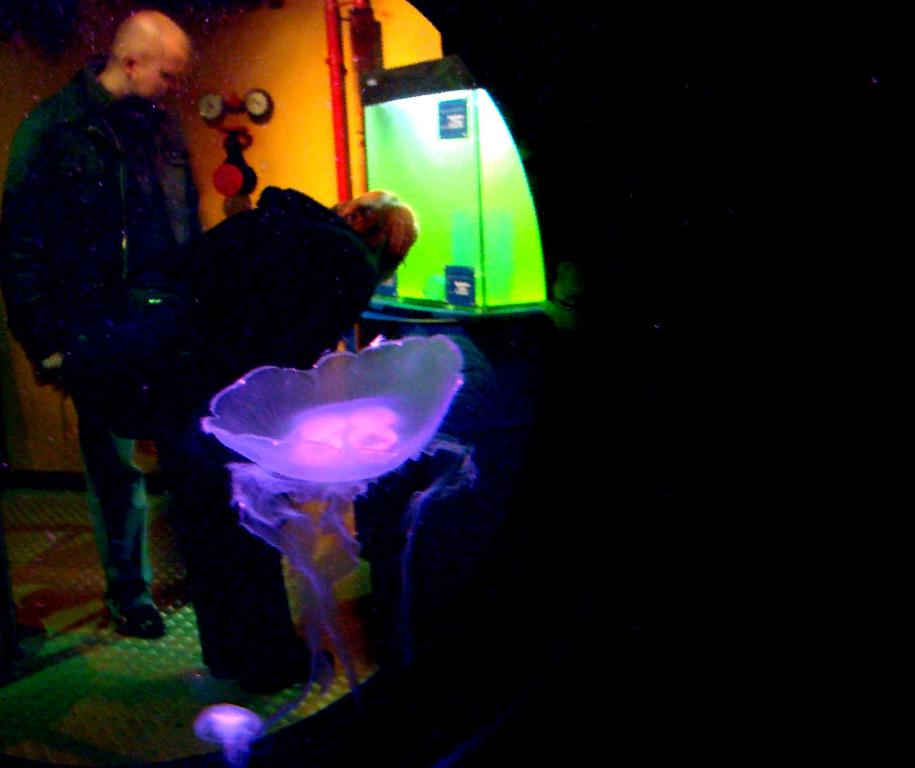Jellyfish: (187, 334, 458, 505), (191, 705, 256, 753)
